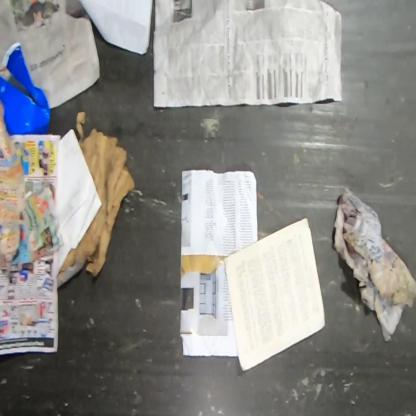cardboard: (57, 112, 135, 280)
rigid_plastic: (0, 41, 52, 136)
